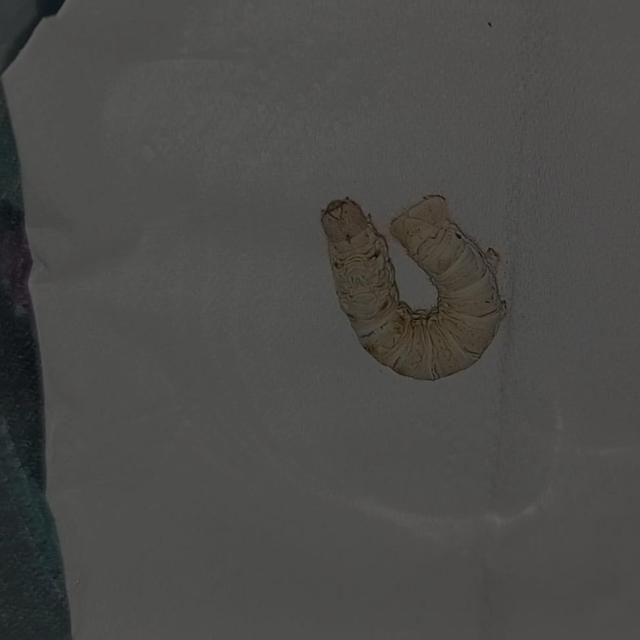Healthy: (300, 172, 522, 398)
